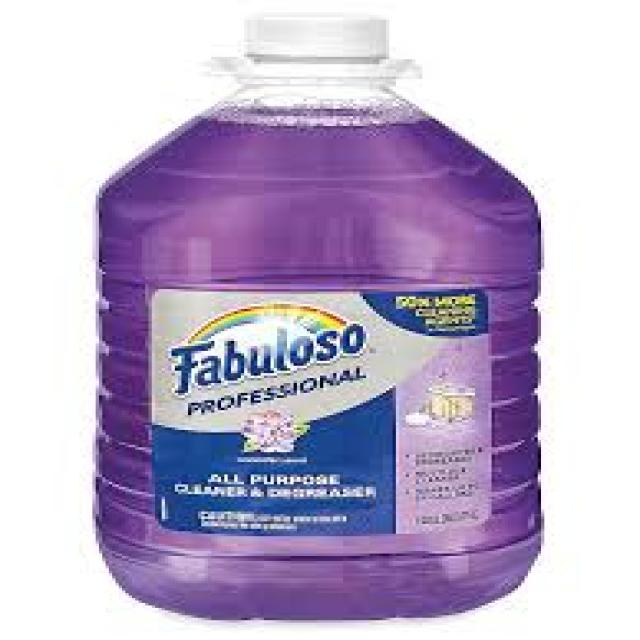Botella: (63, 0, 553, 619)
